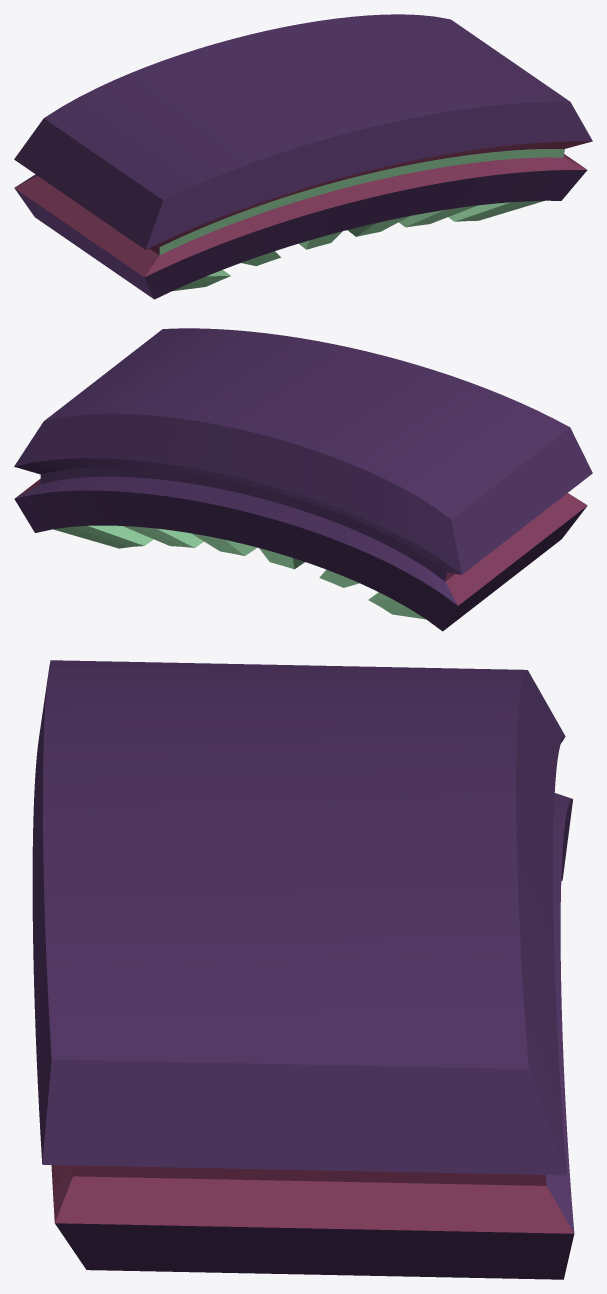
The picture shows the model from 3 angles, top to bottom: view 1: azimuth 30°, elevation 25°; view 2: azimuth 150°, elevation 25°; view 3: azimuth 270°, elevation 25°; orthographic projection. The views are drawn at different scales.
Visible parts, largest first — view 1: Paddle; view 2: Paddle; view 3: Paddle.
Part boxes in pixels (<box>): Paddle: <box>14,14,592,299</box>; Paddle: <box>14,328,592,631</box>; Paddle: <box>32,660,574,1279</box>.
Bounding box in the file's own units: 4.4 × 1.44 × 2.3.
